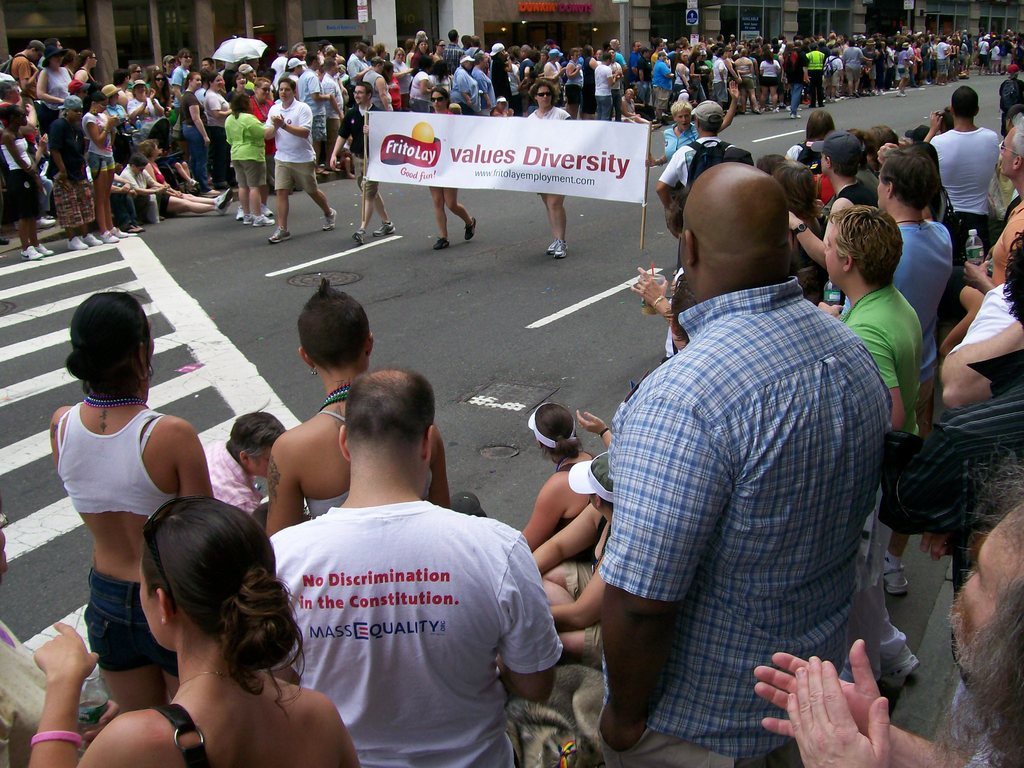person: (257, 285, 377, 536)
